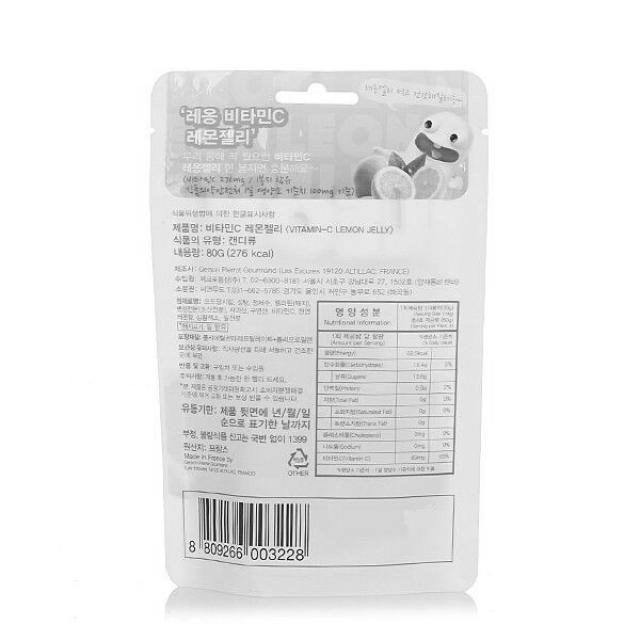Nutrition Label: (309, 294, 463, 483)
